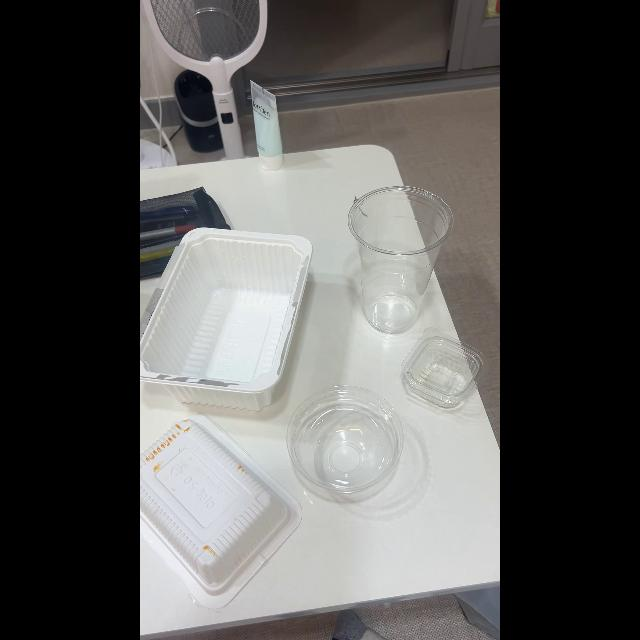clean: (141, 232, 305, 411), (288, 395, 404, 509), (352, 194, 434, 328), (409, 333, 478, 411)
dirty: (140, 418, 268, 578)
